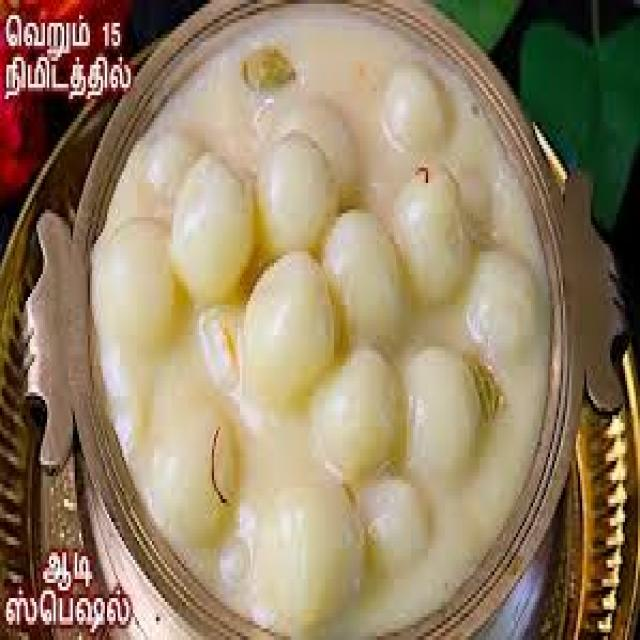paal kolukattai: (91, 0, 545, 632)
